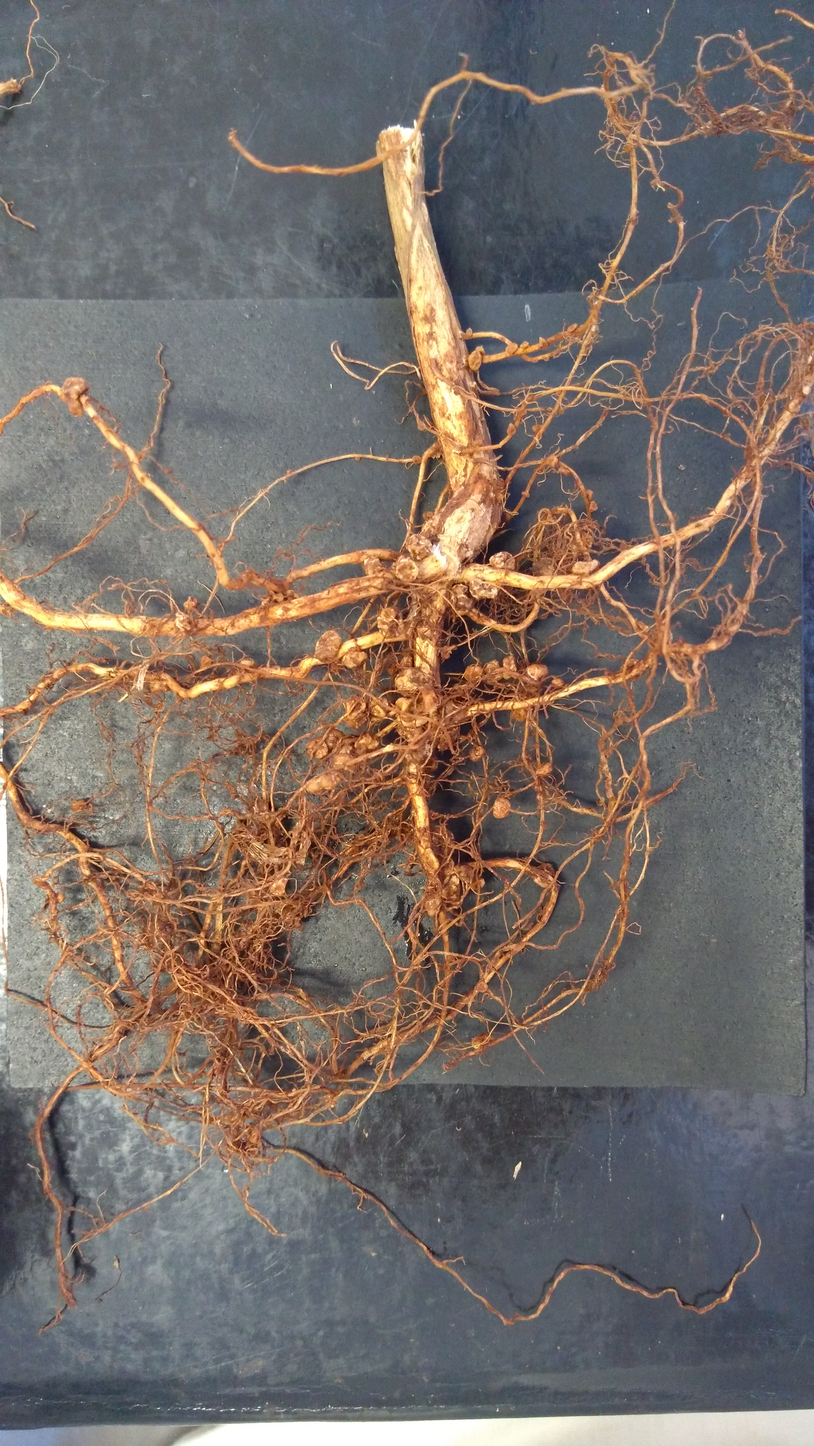nodule: (394, 667, 436, 695), (376, 605, 405, 639), (314, 629, 342, 663), (405, 533, 433, 561), (390, 555, 418, 583), (449, 583, 476, 612), (531, 862, 557, 889), (441, 874, 461, 909), (61, 376, 90, 400), (432, 826, 455, 855), (469, 578, 499, 599), (488, 550, 517, 570), (435, 727, 459, 751), (354, 732, 380, 754), (620, 657, 643, 681), (361, 555, 386, 577), (345, 694, 367, 719), (572, 530, 593, 556), (323, 727, 345, 750), (571, 558, 600, 575), (395, 725, 424, 742), (341, 651, 368, 669), (307, 736, 328, 759), (282, 904, 302, 928), (397, 712, 429, 727), (422, 847, 440, 873), (369, 696, 389, 718), (337, 736, 357, 758), (332, 752, 356, 770), (493, 797, 511, 820), (530, 561, 555, 577), (526, 663, 549, 680), (471, 1032, 494, 1049), (174, 611, 192, 632), (485, 659, 503, 680), (458, 863, 475, 885), (423, 897, 442, 916), (321, 772, 341, 790), (275, 589, 300, 603), (503, 655, 517, 680), (346, 712, 367, 728), (463, 665, 484, 681), (67, 397, 83, 417), (394, 695, 413, 711), (305, 778, 323, 794), (468, 350, 482, 370), (510, 707, 528, 722), (270, 881, 286, 897), (535, 762, 552, 777), (183, 596, 199, 611), (469, 745, 484, 761), (149, 680, 168, 692), (45, 892, 64, 904), (248, 1127, 261, 1144), (199, 654, 213, 669), (297, 987, 311, 1001), (399, 655, 413, 669), (636, 619, 650, 633), (505, 341, 518, 356), (70, 799, 86, 811), (439, 645, 451, 661), (238, 657, 255, 668), (345, 844, 360, 856), (470, 878, 485, 890), (545, 456, 558, 469), (386, 662, 399, 675), (475, 980, 488, 993), (532, 424, 546, 435), (429, 756, 439, 771), (558, 466, 571, 476), (538, 337, 548, 349), (588, 500, 598, 512), (507, 422, 516, 435), (551, 678, 565, 686), (411, 455, 422, 465), (278, 877, 288, 887), (567, 322, 577, 332), (624, 144, 633, 154), (475, 345, 484, 355), (355, 832, 366, 840), (586, 489, 594, 500), (503, 509, 511, 520), (597, 796, 605, 807), (353, 839, 365, 846), (465, 327, 473, 337), (519, 341, 529, 349), (521, 490, 530, 498), (543, 355, 550, 362), (540, 823, 547, 830), (286, 469, 292, 476), (355, 456, 361, 461)
